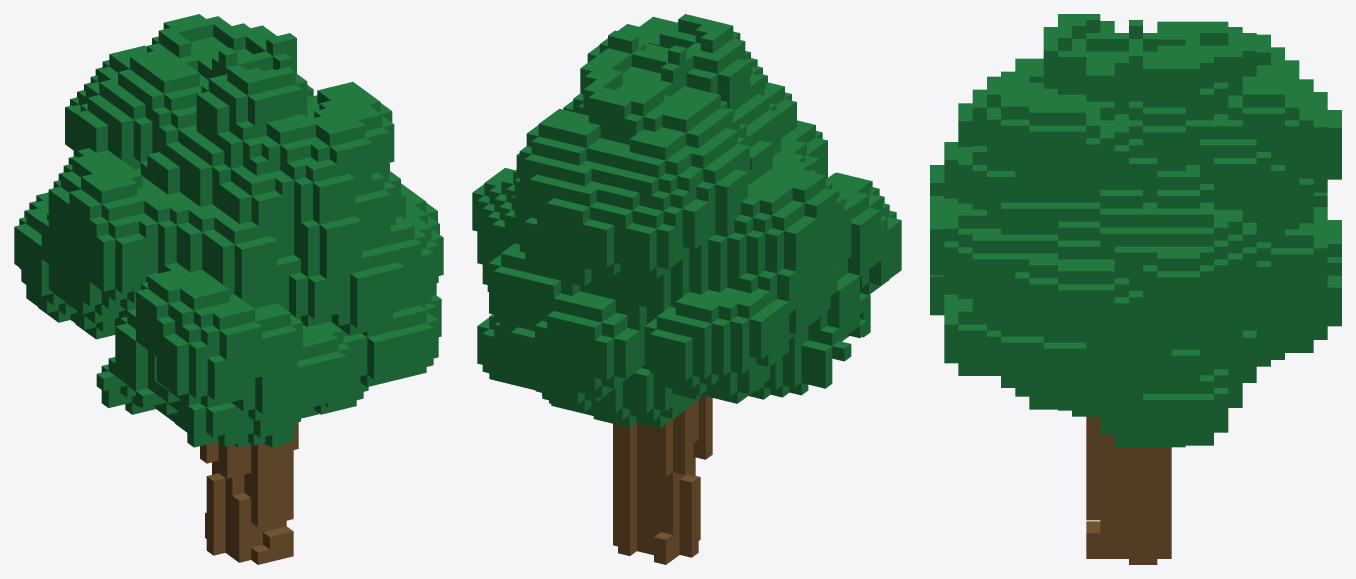
Rendered from arbol_07.fbx.
3 views of the same model, side by side, from view 1: azimuth 30°, elevation 25°; view 2: azimuth 150°, elevation 25°; view 3: azimuth 270°, elevation 25° (orthographic). The views are drawn at different scales.
Parts seen in each view (by area): view 1: _arbol06; view 2: _arbol06; view 3: _arbol06.
Boxes of the visible parts, <box> form: _arbol06: <box>14,14,443,564</box>; _arbol06: <box>472,14,901,564</box>; _arbol06: <box>930,14,1341,564</box>.
Bounding box in the file's own units: 270 × 400 × 290.
1 material, 1 textured.
